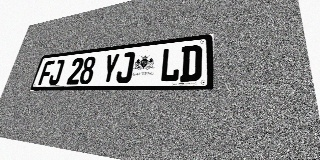2: (66, 57, 85, 85)
8: (78, 56, 97, 84)
D: (180, 44, 202, 82)
F: (38, 60, 55, 85)
J: (115, 52, 136, 83), (48, 59, 65, 85)
L: (159, 47, 181, 82)
Y: (100, 53, 120, 84)
